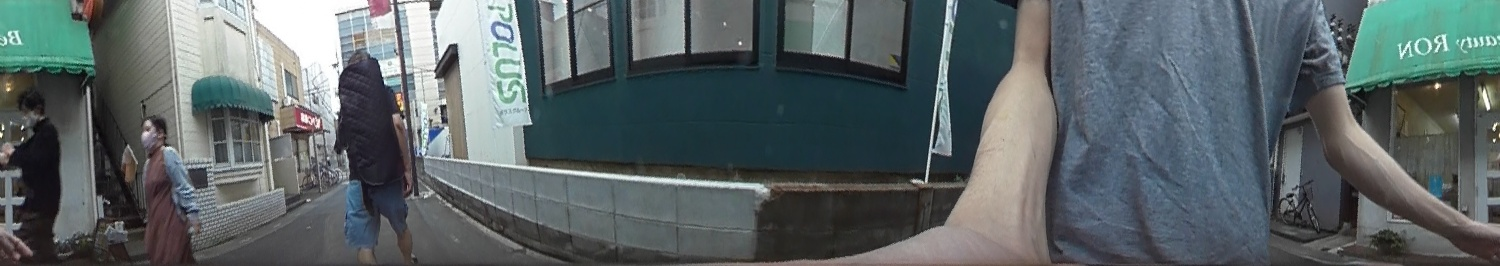person: (333, 49, 419, 266), (6, 89, 71, 266), (137, 112, 198, 266)
